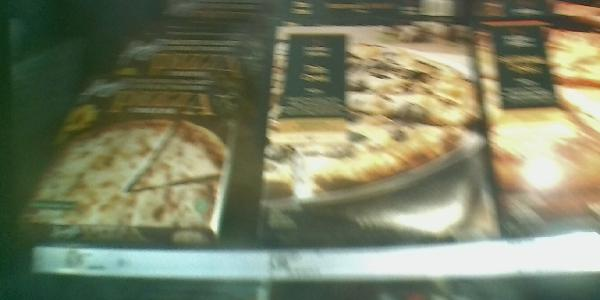pizza1: (256, 18, 506, 241), (20, 64, 245, 245)
